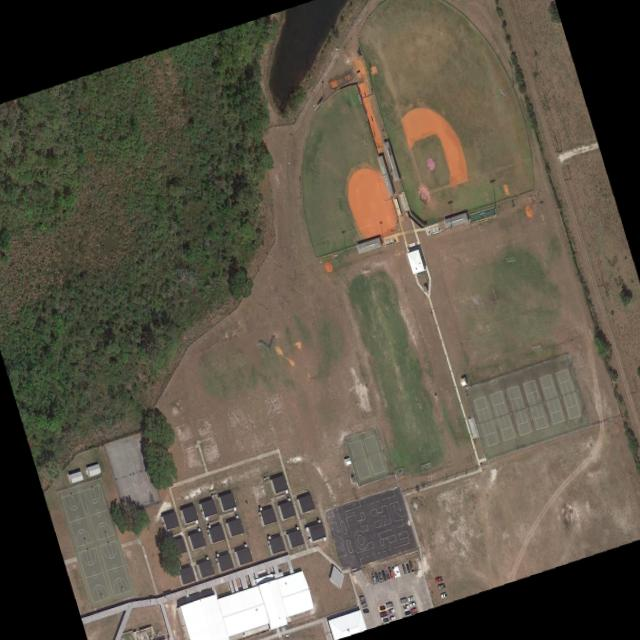small-vehicle: (407, 560, 413, 572), (433, 574, 441, 583), (438, 591, 447, 599), (400, 562, 406, 574), (386, 566, 392, 578), (384, 600, 392, 609), (408, 605, 416, 614), (372, 571, 379, 581), (390, 566, 396, 577), (379, 569, 385, 580), (369, 572, 375, 583), (376, 570, 382, 581), (436, 581, 444, 589), (360, 606, 368, 614), (378, 609, 386, 617), (398, 596, 406, 604), (405, 594, 413, 602), (404, 562, 409, 573), (359, 600, 366, 607), (401, 603, 408, 610), (407, 600, 414, 607), (387, 614, 395, 620), (380, 617, 388, 623), (402, 609, 409, 615), (377, 604, 384, 610), (386, 607, 393, 613)
